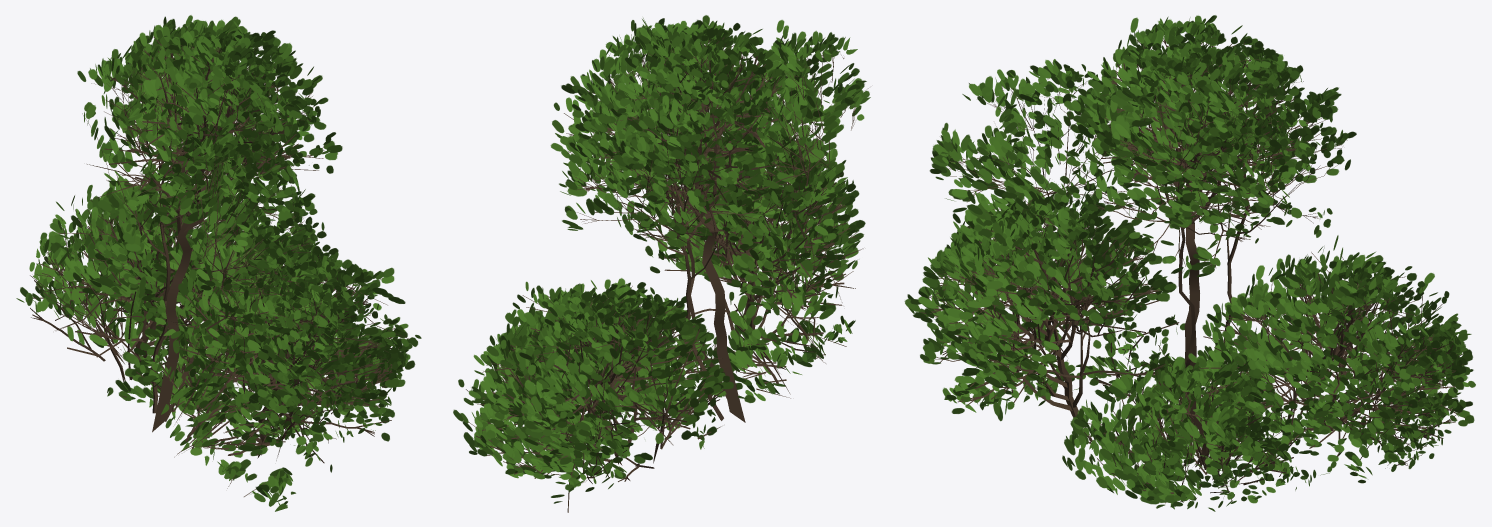
The picture shows the model from 3 angles, left to right: view 1: azimuth 30°, elevation 25°; view 2: azimuth 150°, elevation 25°; view 3: azimuth 270°, elevation 25°; orthographic projection. The views are drawn at different scales.
Parts seen in each view (by area): view 1: oak 01.001_trunk_Mat.001_0.255; view 2: oak 01.001_trunk_Mat.001_0.255; view 3: oak 01.001_trunk_Mat.001_0.255.
Boxes of the visible parts, left/top/right/bottom form: oak 01.001_trunk_Mat.001_0.255: left=16, top=15, right=421, bottom=511; oak 01.001_trunk_Mat.001_0.255: left=453, top=15, right=870, bottom=512; oak 01.001_trunk_Mat.001_0.255: left=904, top=15, right=1475, bottom=511.
Bounding box in the file's own units: 2.58 × 3.75 × 4.68.
Materials: 2 (1 with a texture image).
